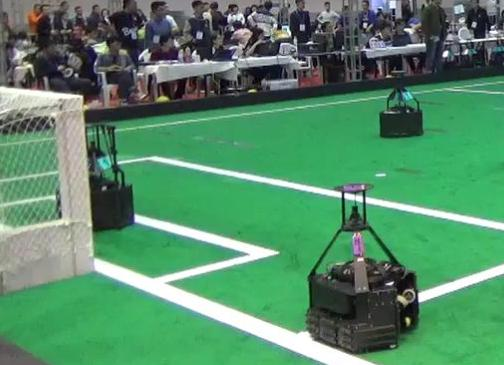robot: (303, 179, 425, 352), (375, 67, 429, 139)
